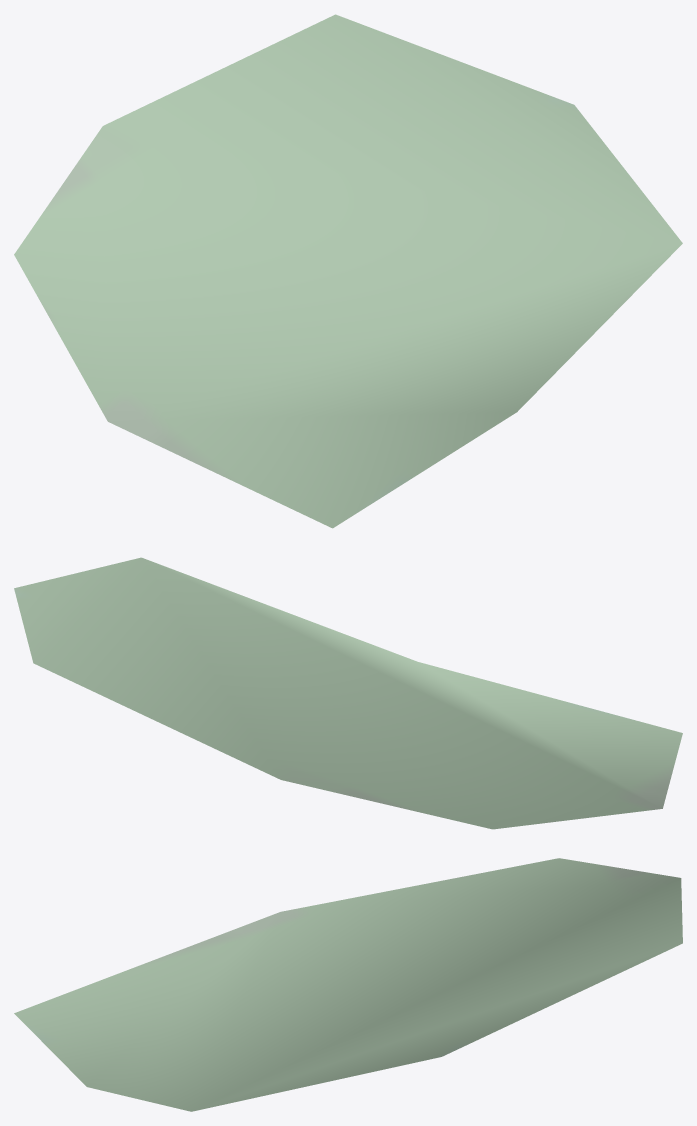
Rendered from TROLLHOLE02_HOLECAP203.fbx.
3 views of the same model, one above another, from view 1: azimuth 30°, elevation 25°; view 2: azimuth 150°, elevation 25°; view 3: azimuth 270°, elevation 25° (orthographic). The views are drawn at different scales.
Parts seen in each view (by area): view 1: TROLLHOLE02_HOLECAP203; view 2: TROLLHOLE02_HOLECAP203; view 3: TROLLHOLE02_HOLECAP203.
Part boxes in pixels (<box>): TROLLHOLE02_HOLECAP203: <box>14,14,682,528</box>; TROLLHOLE02_HOLECAP203: <box>14,557,682,829</box>; TROLLHOLE02_HOLECAP203: <box>14,858,682,1111</box>.
Size of the model in its own units: 10400 by 3948 by 10202.
1 material, 1 textured.
